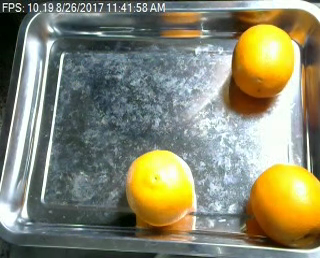Orange: (250, 164, 320, 249), (124, 149, 196, 226), (232, 23, 295, 95)
